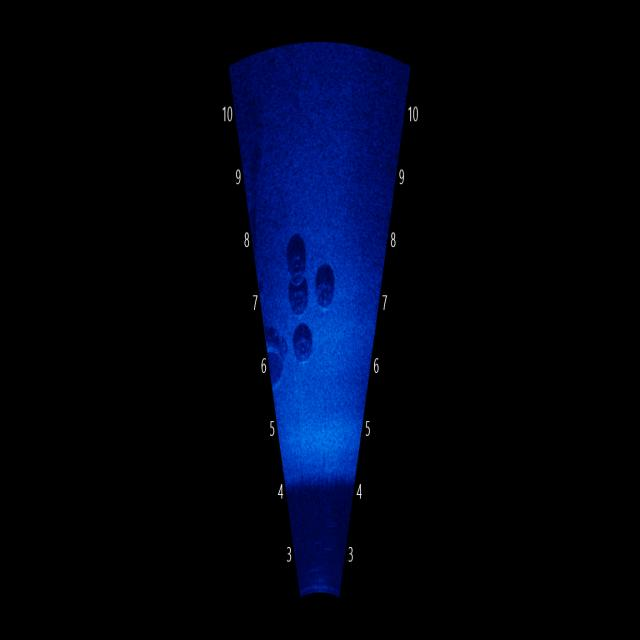circle: (312, 264, 338, 326), (290, 317, 316, 376)
